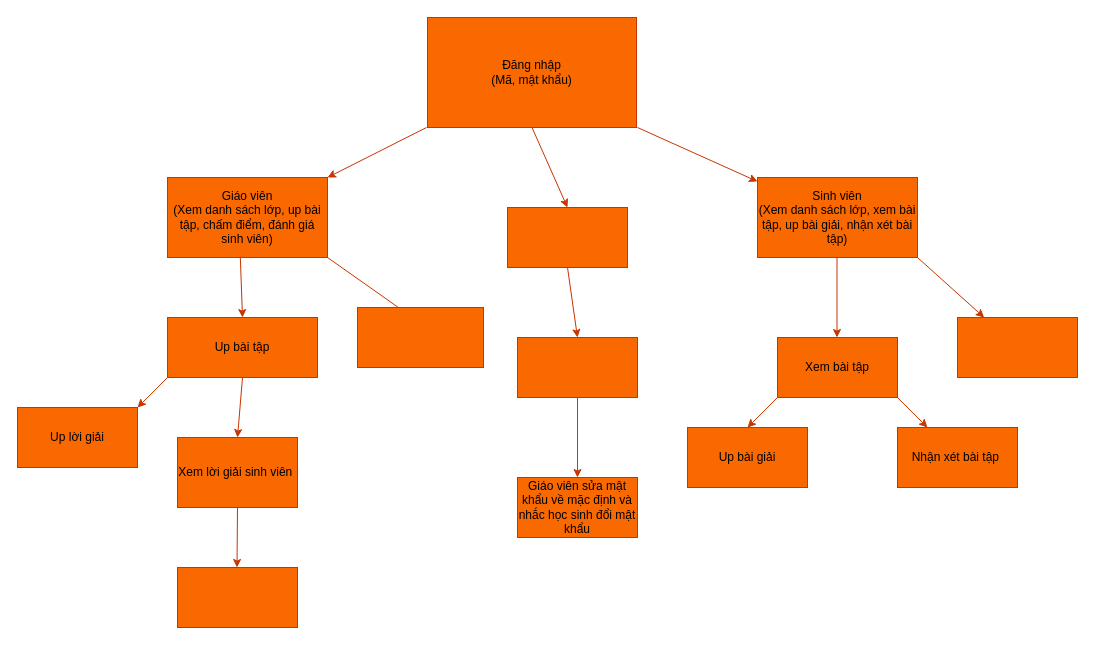
Some shapes in this 1095 by 645 pixel diagram are drawn without their labels. The shapes that lost their labels are listed below. From the top down, each one's box as (x1, y1, x2, y2) in pixels, then its label:
(506, 206, 628, 268): Quên mật khẩu
(356, 306, 484, 368): Xem danh sách lớp
(956, 316, 1078, 378): Xem và sửa đổi thông tin cá nhân
(516, 336, 638, 398): Gửi thông tin cho giáo viên
(176, 566, 298, 628): Chấm điểm + nhận xét
